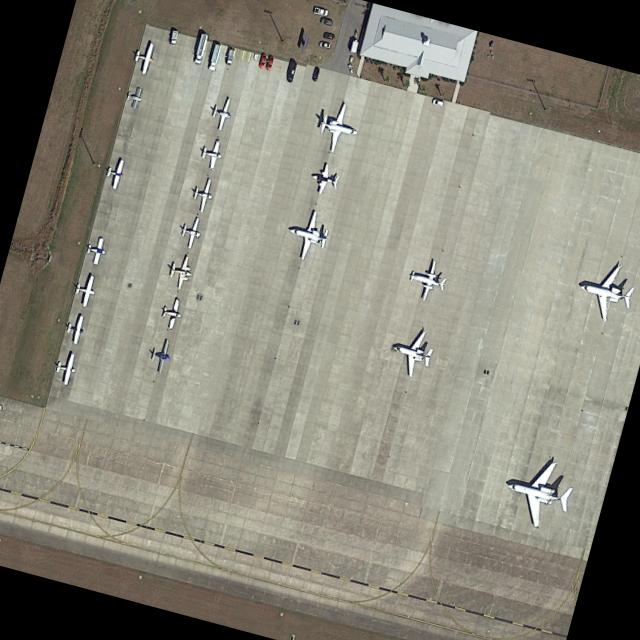large-vehicle: (191, 33, 208, 64), (206, 43, 221, 71), (224, 47, 236, 66)
plane: (496, 450, 578, 534), (570, 252, 640, 328), (280, 205, 333, 266), (385, 322, 437, 381), (314, 98, 363, 156), (403, 255, 450, 305), (306, 160, 341, 198), (166, 253, 195, 291), (70, 270, 98, 308), (146, 338, 173, 375), (207, 95, 234, 132), (177, 214, 204, 250), (189, 176, 215, 213), (157, 297, 184, 331), (51, 352, 78, 386), (131, 39, 156, 75), (197, 138, 224, 171), (102, 156, 126, 190), (63, 313, 86, 345), (83, 235, 107, 265), (123, 84, 143, 109)
small-vehicle: (284, 61, 296, 84), (311, 6, 328, 17), (256, 53, 266, 69), (263, 54, 273, 70), (310, 66, 320, 81), (319, 17, 333, 26), (321, 31, 334, 40), (430, 98, 443, 107), (317, 40, 330, 48)
